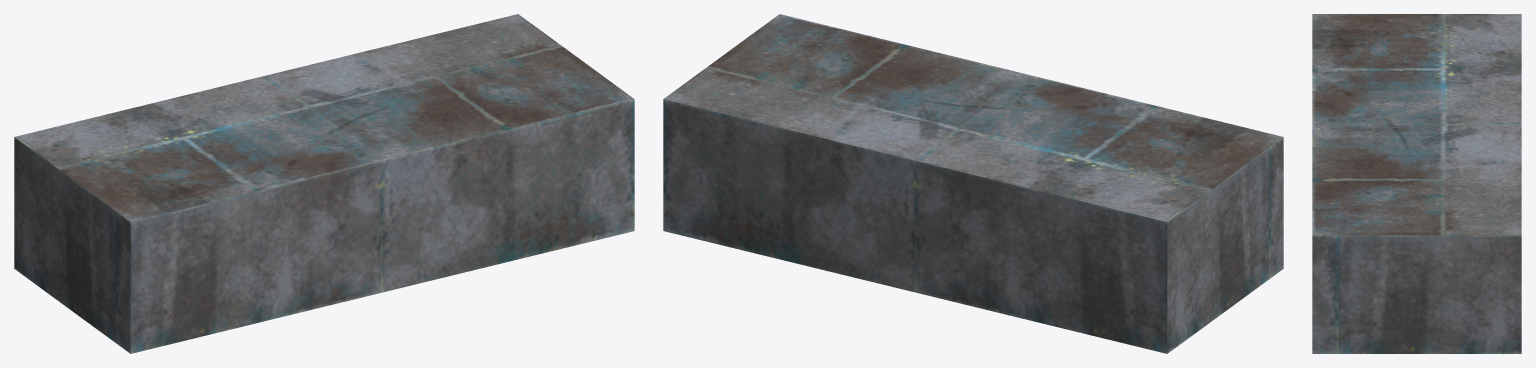
File: zed_koruna.glb
3 renders of one model, left to right at view 1: azimuth 30°, elevation 25°; view 2: azimuth 150°, elevation 25°; view 3: azimuth 270°, elevation 25°, orthographic. The views are drawn at different scales.
Visible parts, largest first — view 1: zed_koruna; view 2: zed_koruna; view 3: zed_koruna.
Boxes of the visible parts, <box> form: zed_koruna: <box>14,14,634,353</box>; zed_koruna: <box>663,14,1283,353</box>; zed_koruna: <box>1312,14,1521,353</box>.
Size of the model in its own units: 1 by 0.25 by 0.4.
Materials: 1 (1 with a texture image).
